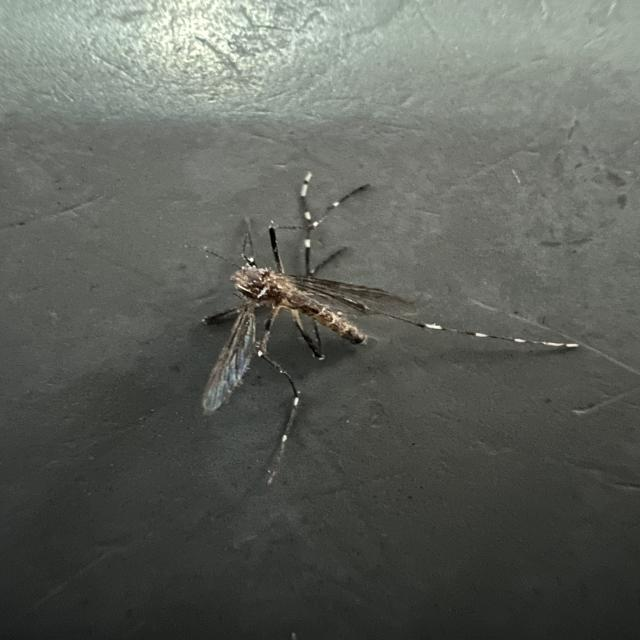aegypti: (169, 165, 562, 484)
